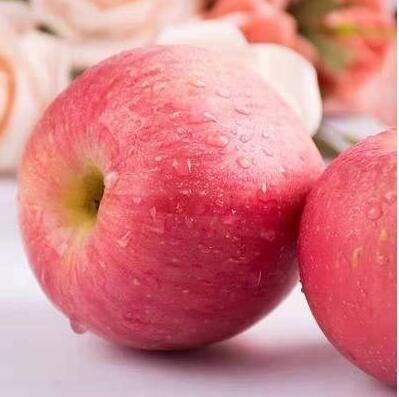apple: (14, 42, 312, 353), (294, 129, 398, 384)
